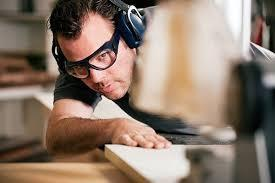Ear_protector: (114, 7, 149, 51)
Humans: (42, 1, 174, 159)
Visor: (54, 43, 126, 79)
